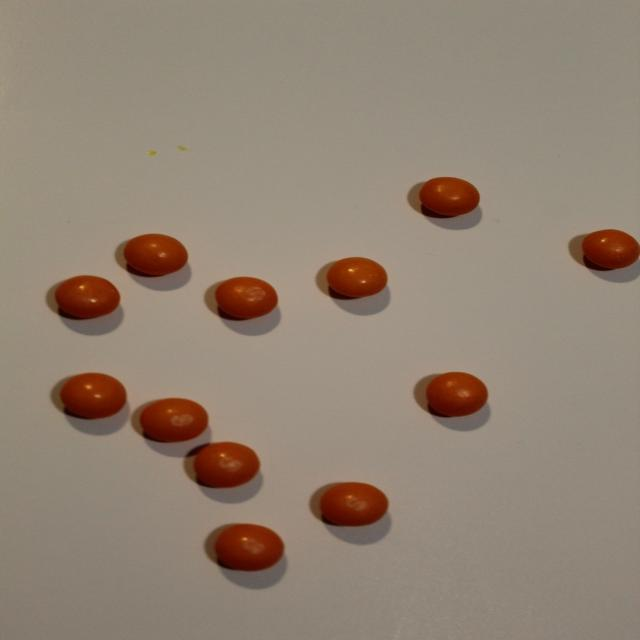smartie: (214, 525, 283, 572), (59, 373, 125, 419), (193, 443, 259, 489), (139, 399, 207, 443), (320, 483, 388, 527), (53, 275, 119, 318), (426, 372, 488, 417), (214, 277, 277, 319), (123, 234, 187, 275), (326, 257, 387, 297), (419, 177, 480, 215), (583, 229, 640, 269)
